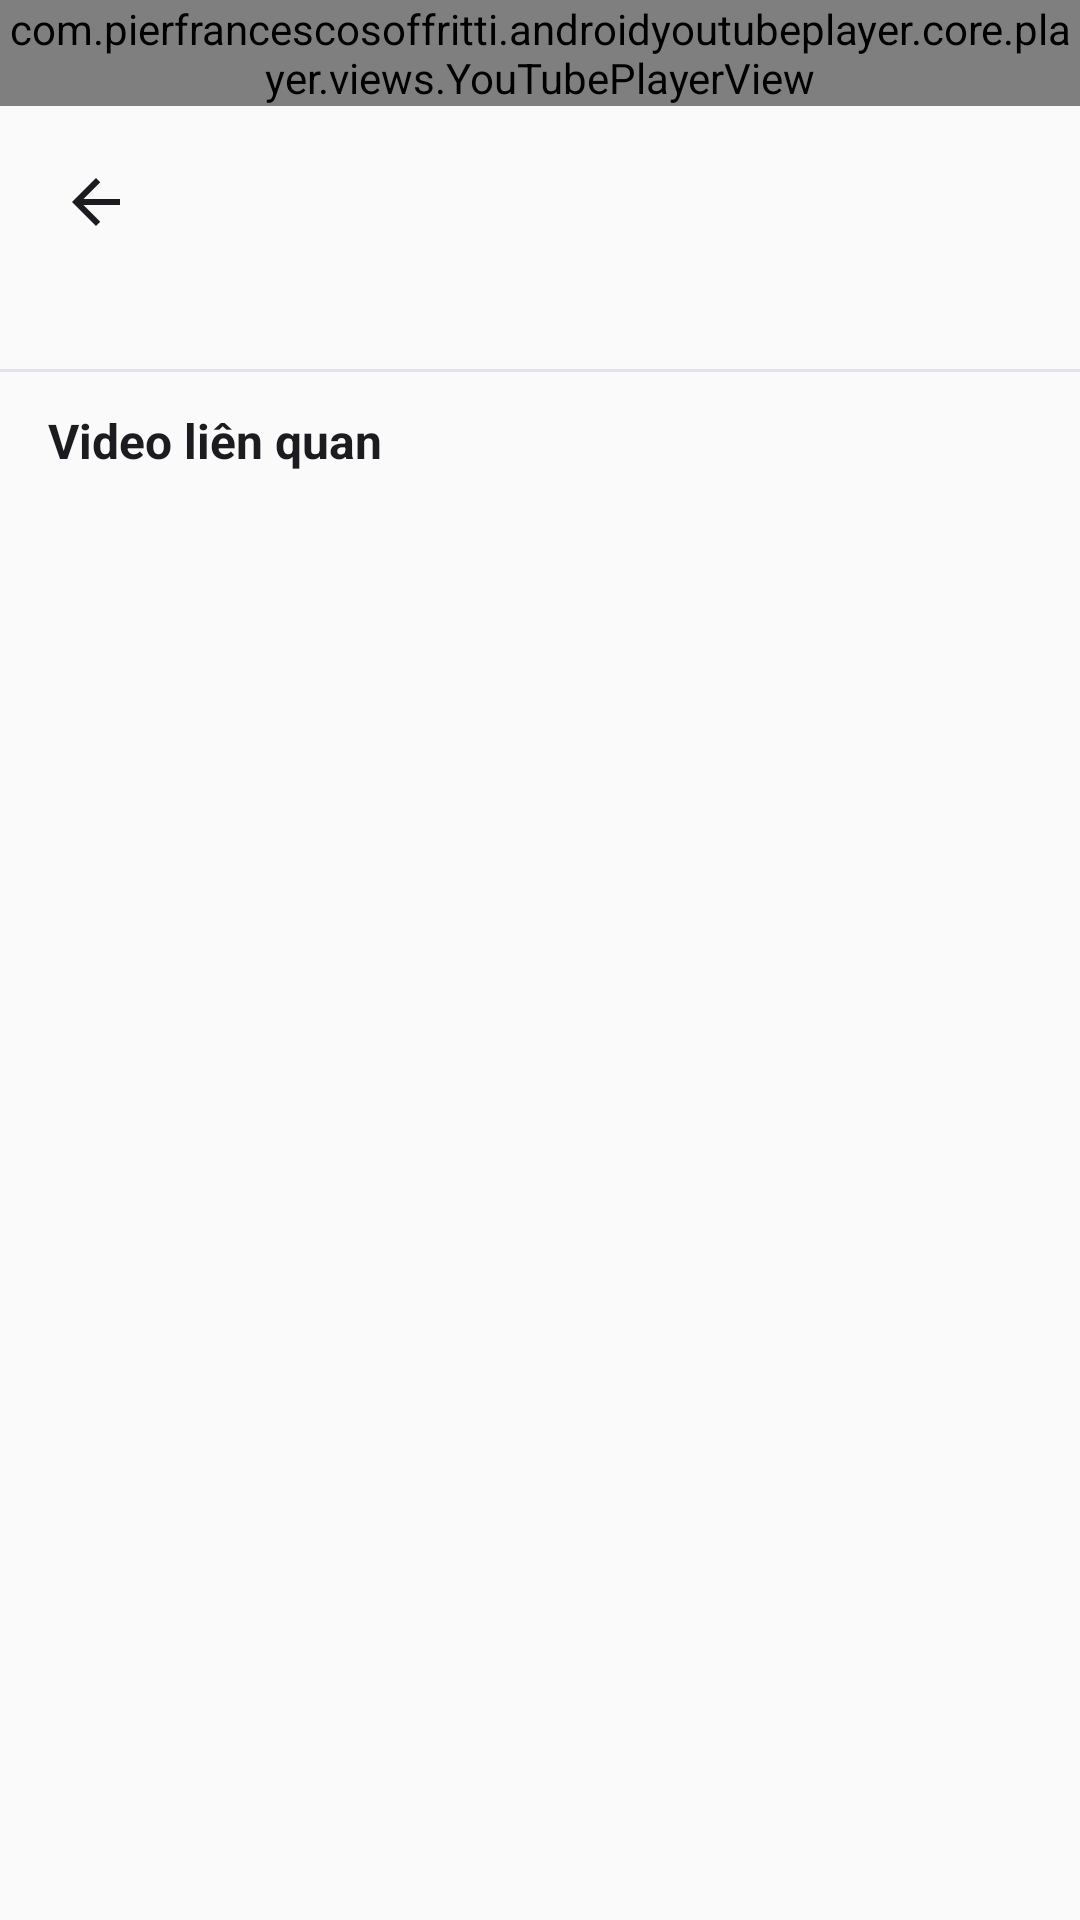

Screen size 1080 x 1920. Icon name, then its box in pixels as (x1, y1, x2, y2):
arrow back: (72, 178, 120, 226)
